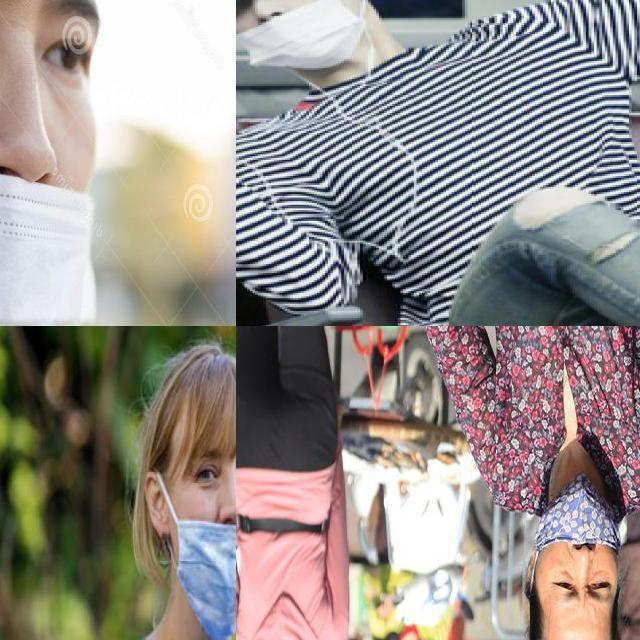hairnet: (0, 77, 95, 325), (174, 487, 235, 631), (535, 477, 624, 568), (236, 0, 356, 67)
